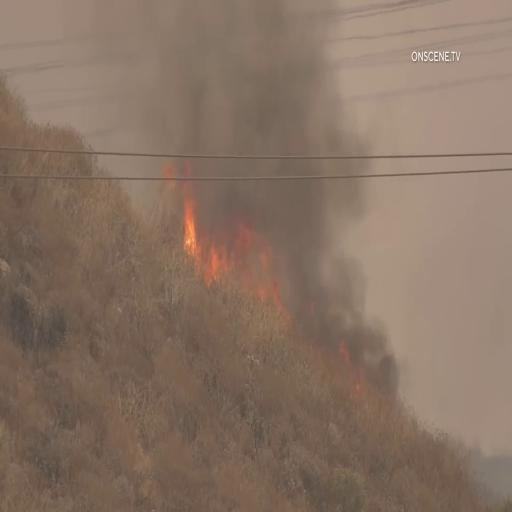fire: (229, 36, 332, 237), (166, 152, 205, 277), (195, 240, 236, 290)
